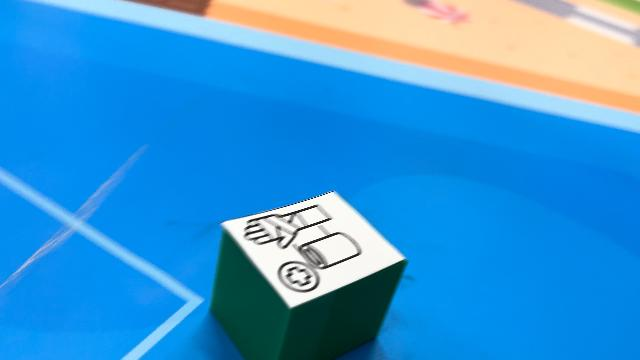bandage: (210, 189, 408, 358)
